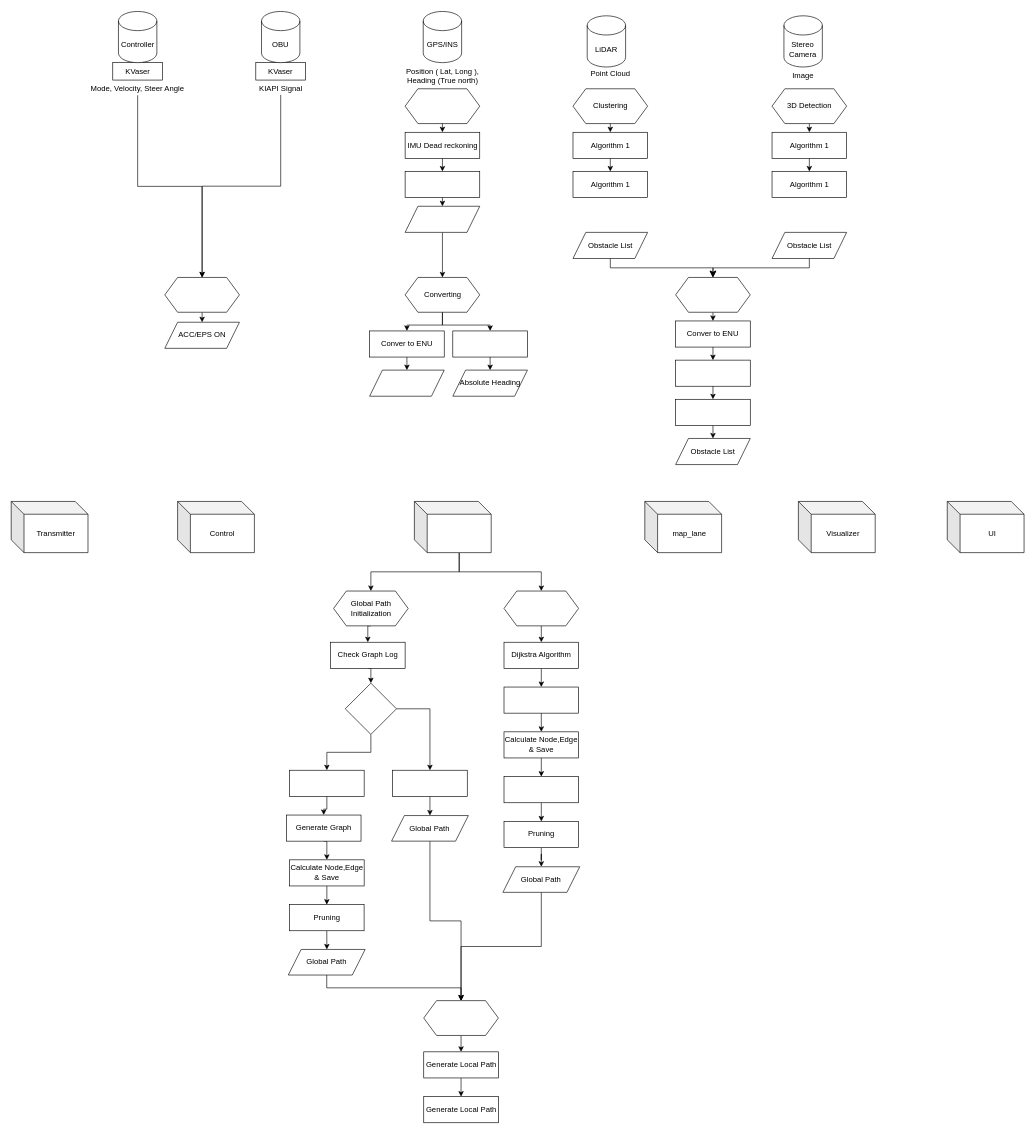
This 1036x1134 diagram has some shape labels left out. Each missing label, with the box of its shape:
Calibration: (404, 88, 480, 124)
Convert to Absolute Heading: (452, 330, 527, 357)
Convert to Frenet: (675, 359, 750, 386)
Dynamic Global Path Planning: (503, 590, 579, 626)
Exist?: (345, 683, 396, 734)
Filtered Position,Heading: (404, 206, 480, 232)
Filtering: (675, 277, 750, 312)
Frenet Filtering by Lane number: (675, 399, 750, 425)
Generate Node, Edge: (503, 776, 579, 803)
LiDAR Odomertry: (404, 171, 480, 198)
Load Race Line: (289, 770, 364, 796)
Load Race line Graph: (392, 770, 467, 796)
Local Path Planner: (423, 1000, 498, 1035)
Local Pose: (369, 369, 444, 396)
Planning: (414, 501, 491, 553)
Save Dynamic Path: (503, 686, 579, 713)
Transition: (164, 277, 239, 312)
